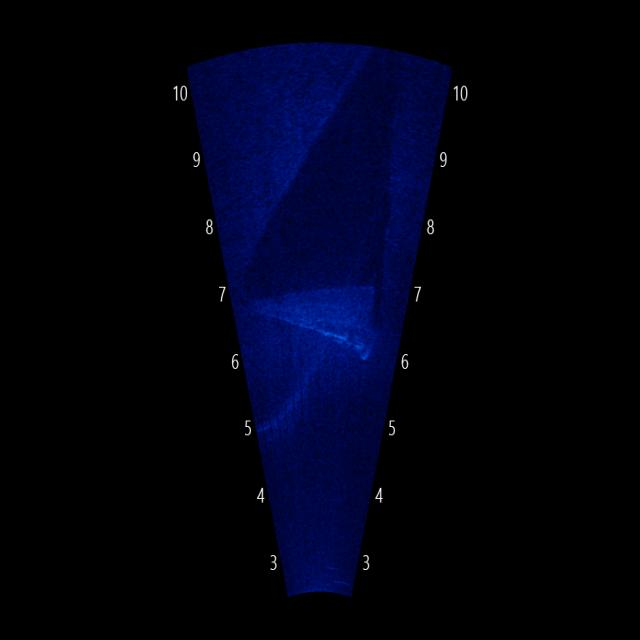triangle: (248, 273, 390, 363)
